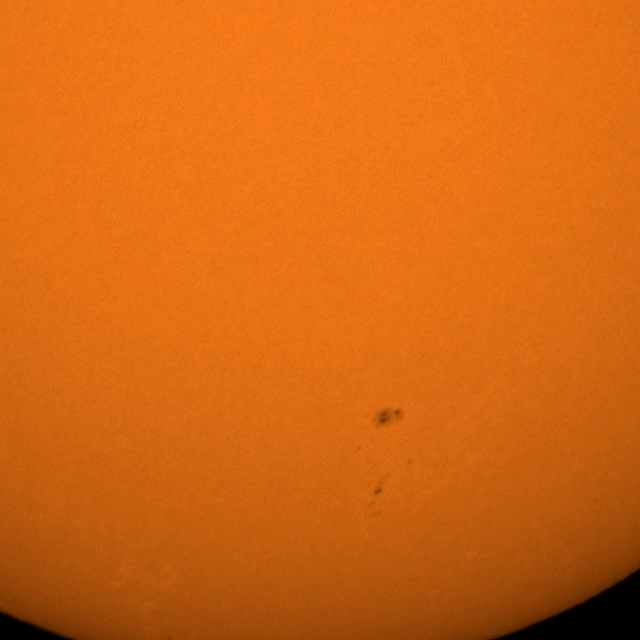sunspot: (372, 407, 405, 430), (367, 480, 385, 518), (369, 472, 390, 501)
